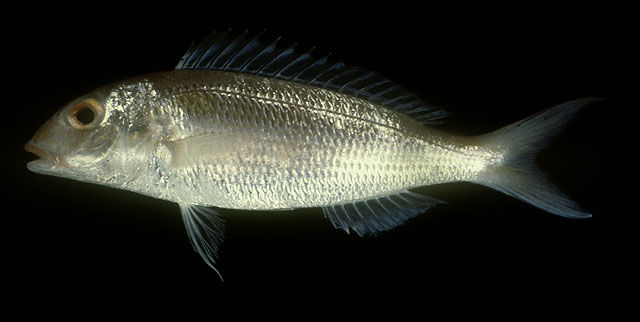fish: (25, 41, 595, 281)
